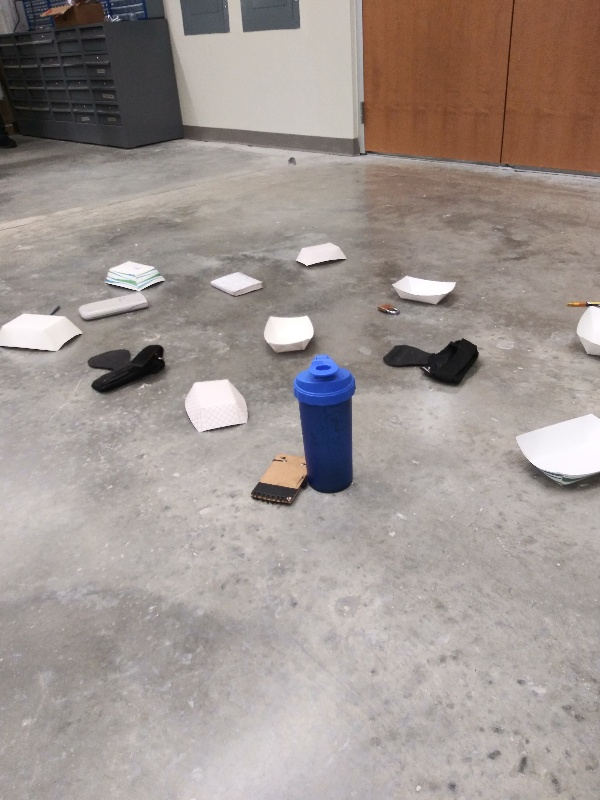plate: (511, 409, 600, 497), (1, 309, 87, 359), (180, 377, 254, 435), (256, 312, 324, 358), (384, 271, 462, 307), (98, 257, 169, 294), (292, 238, 350, 272), (570, 304, 600, 365)
